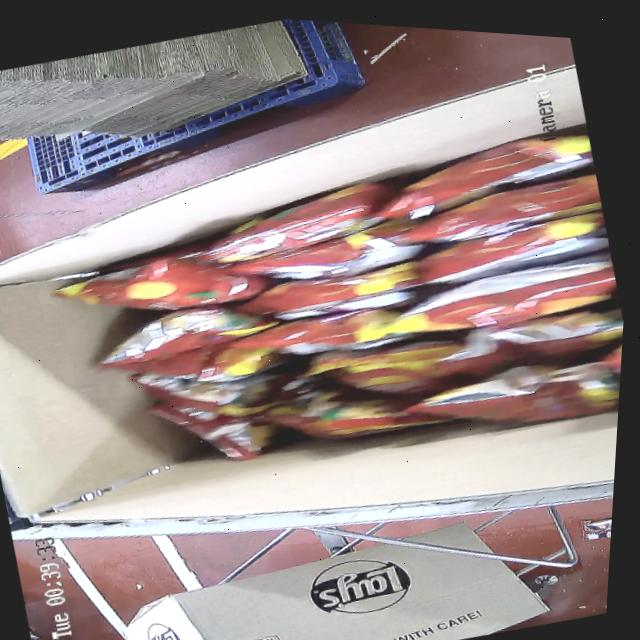MASALA: (26, 88, 635, 539)
